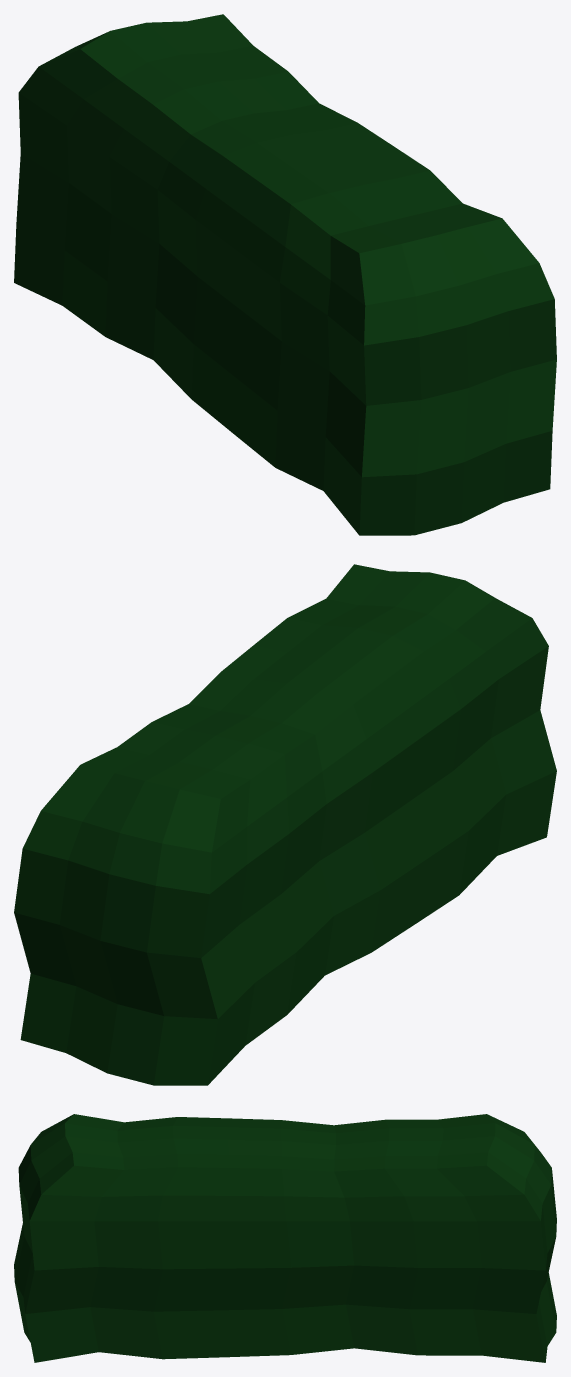
File: zywoplot.fbx
The picture shows the model from 3 angles, top to bottom: view 1: azimuth 30°, elevation 25°; view 2: azimuth 150°, elevation 25°; view 3: azimuth 270°, elevation 25°; orthographic projection. The views are drawn at different scales.
Parts seen in each view (by area): view 1: Cube; view 2: Cube; view 3: Cube.
Boxes of the visible parts, x1,y1,x2,y2 form: Cube: (14, 14, 556, 535); Cube: (14, 564, 556, 1085); Cube: (14, 1114, 556, 1362).
Size of the model in its own units: 159 by 201 by 501.
